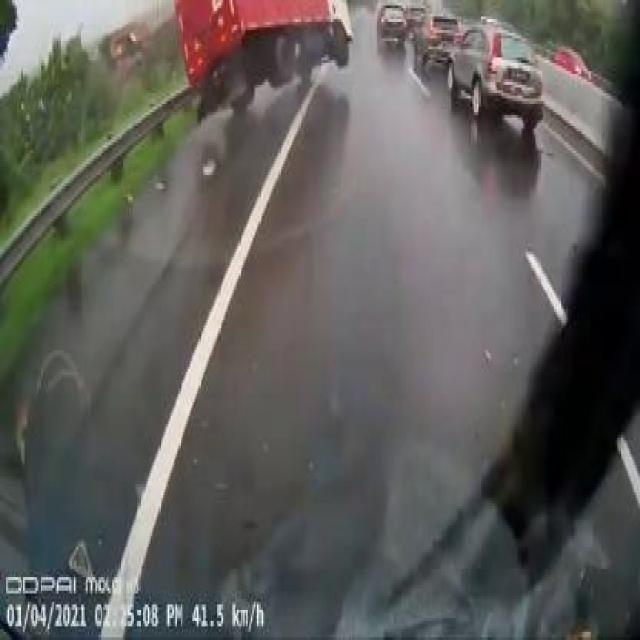accident: (166, 0, 360, 126)
